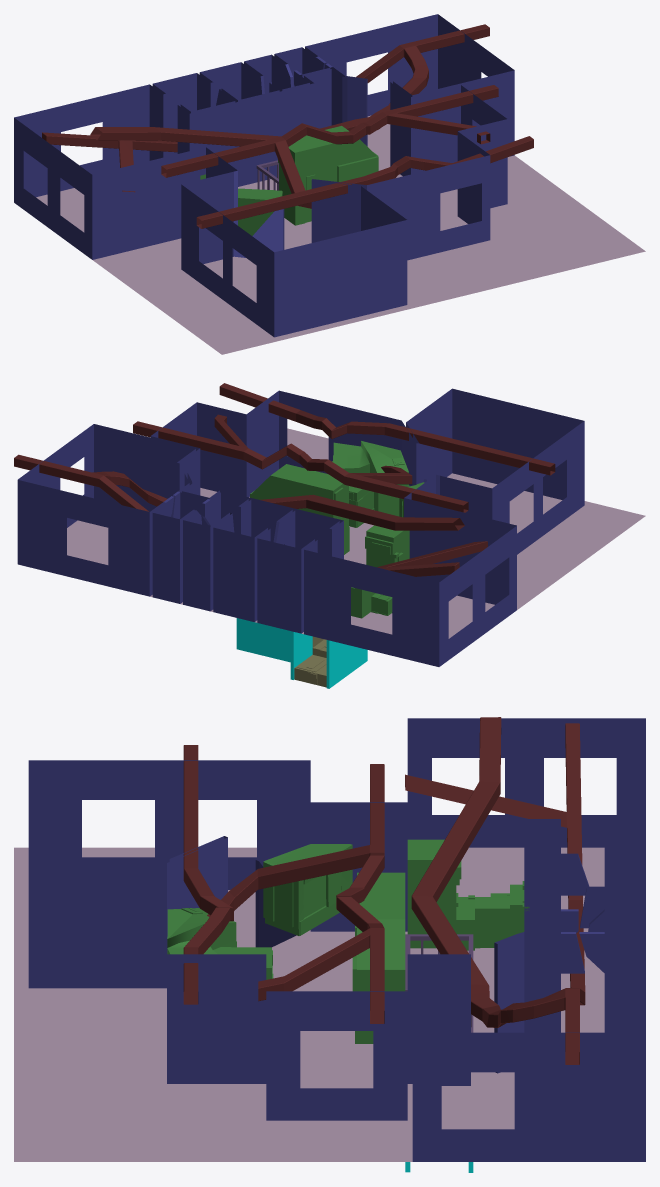
Rendered from NIVEL_2.fbx.
3 renders of one model, top to bottom at view 1: azimuth 30°, elevation 25°; view 2: azimuth 150°, elevation 25°; view 3: azimuth 270°, elevation 25°, orthographic. The views are drawn at different scales.
Visible parts, largest first — view 1: PAREDES, PISO, polySurface136, polySurface135, Protuberancia_4, polySurface134, Protuberancia_3; view 2: PAREDES, PISO, polySurface136, polySurface135, polySurface134, Protuberancia_4, pCube42, pCube24, pCube32, pCube43, pCube31, pCube40 (+3 smaller); view 3: PAREDES, PISO, polySurface136, polySurface135, polySurface134, Protuberancia_3, Protuberancia_4, pCube24, pCube25, pCube32, pCube26, BARANDA.
Boxes of the visible parts, x1,y1,x2,y2 form: PAREDES: (14,14,514,337); PISO: (36,115,645,354); polySurface136: (42,24,489,192); polySurface135: (161,85,498,208); Protuberancia_4: (278,126,378,225); polySurface134: (196,136,533,228); Protuberancia_3: (238,188,282,235); PAREDES: (17,388,584,666); PISO: (67,428,645,638); polySurface136: (14,454,487,576); polySurface135: (133,414,468,512); polySurface134: (219,383,555,475); Protuberancia_4: (250,464,349,554); pCube42: (236,618,312,662); pCube24: (365,525,409,567); pCube32: (361,441,409,516); pCube43: (326,640,367,688); pCube31: (332,442,369,472); pCube40: (294,654,326,687); PAREDES: (28,718,645,1161); PISO: (14,847,604,1161); polySurface136: (405,717,585,1064); polySurface135: (207,764,384,1023); polySurface134: (183,745,233,1004); Protuberancia_3: (263,844,352,935); Protuberancia_4: (352,872,405,1043); pCube24: (407,839,461,948); pCube25: (475,881,529,948); pCube32: (167,908,236,949); pCube26: (456,893,509,950); BARANDA: (405,934,473,1032).
Bounding box in the file's own units: 16.21 × 6.53 × 13.
